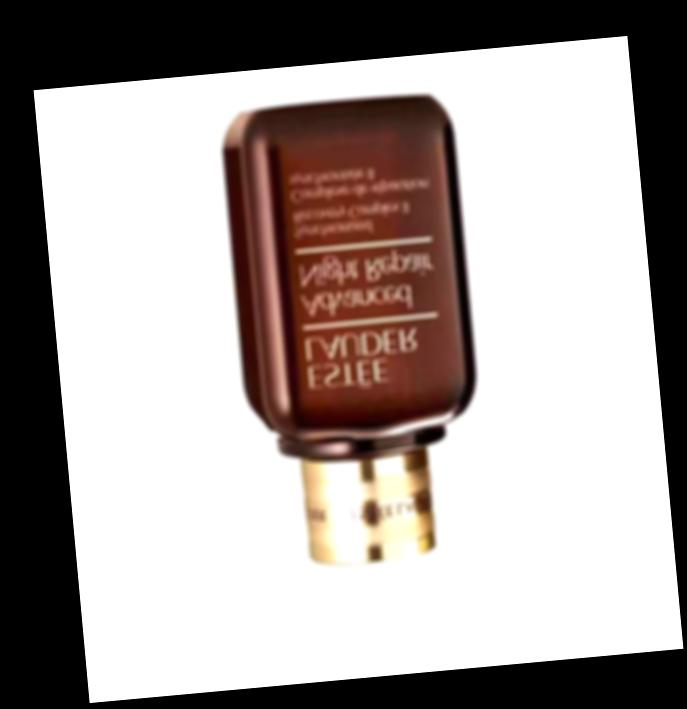cosmetic: (230, 98, 502, 667)
